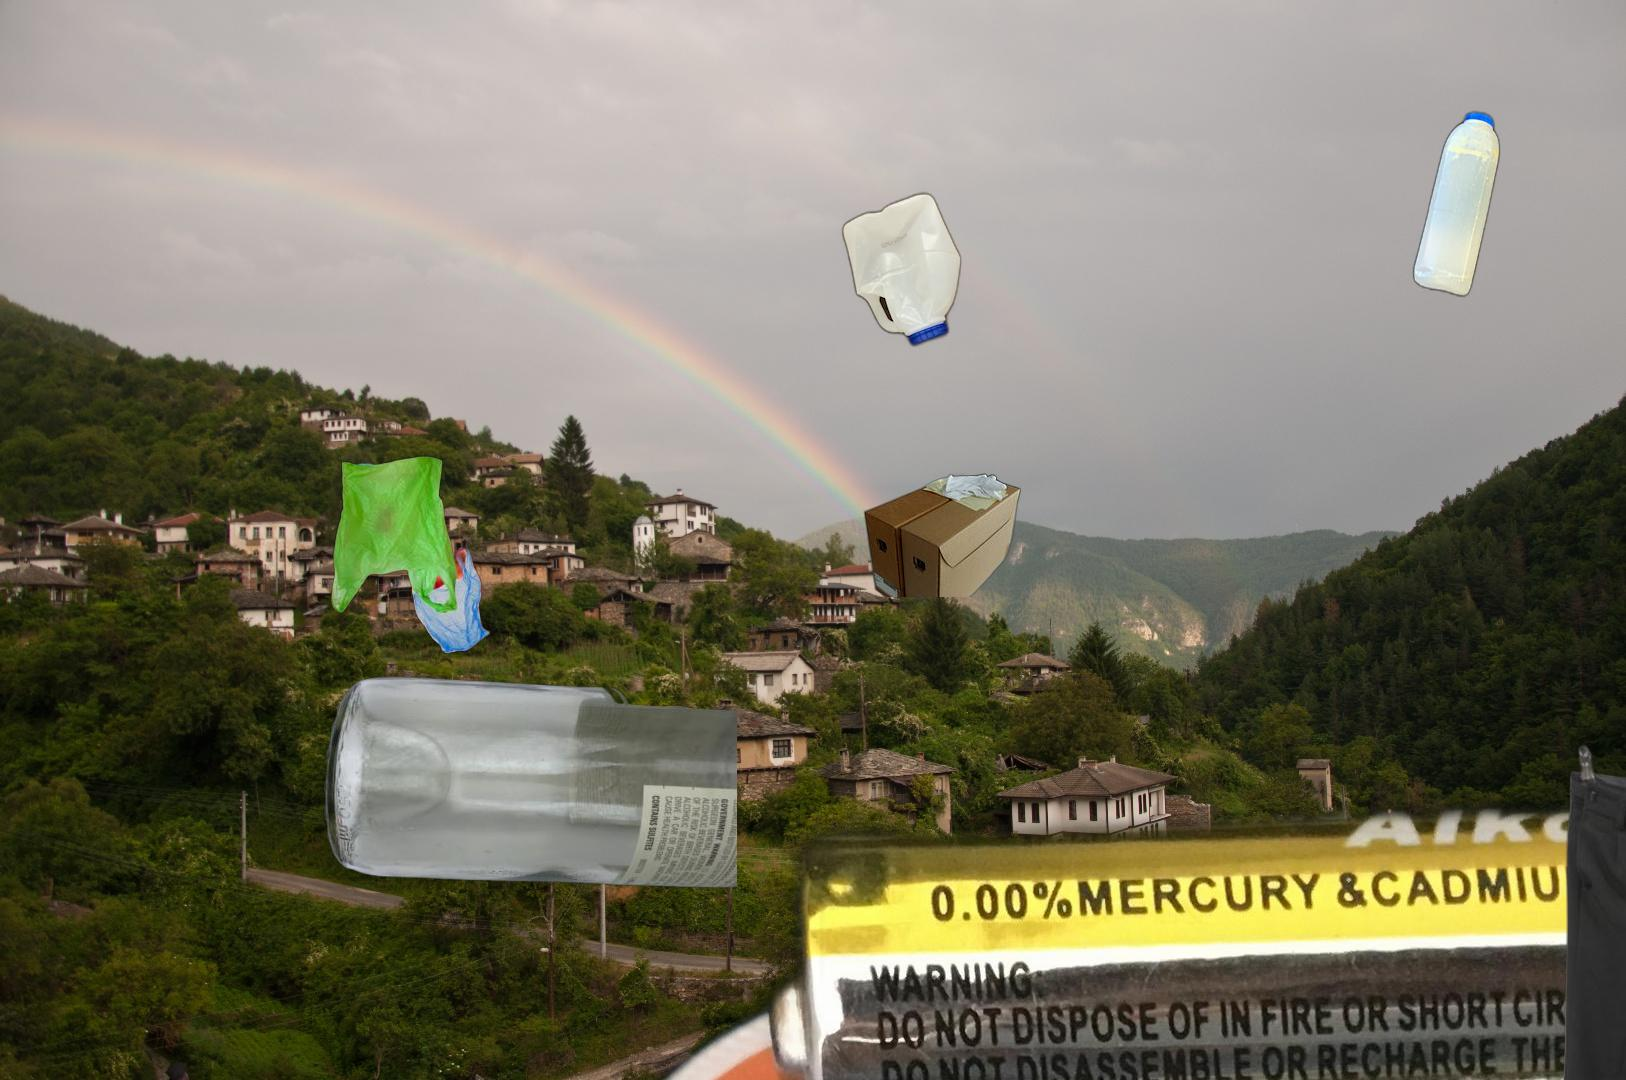battery: (539, 770, 1626, 1080)
clothes: (1530, 741, 1626, 1080)
glass: (321, 675, 736, 891)
plastic-bag: (328, 448, 493, 656)
plastic-bottles: (838, 187, 965, 351), (1409, 106, 1504, 303)
trashbox-cardboard: (861, 469, 1023, 597)
